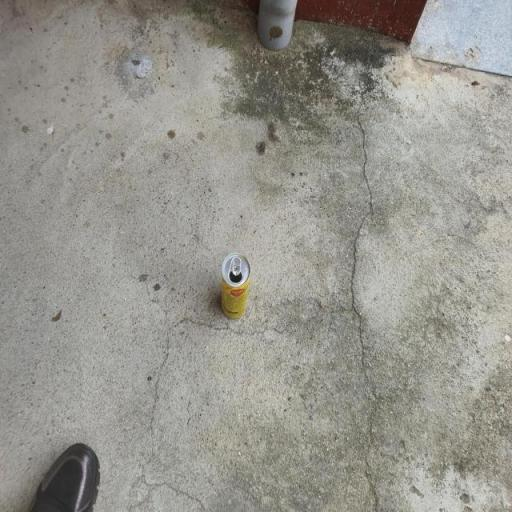metal: (207, 234, 261, 344)
